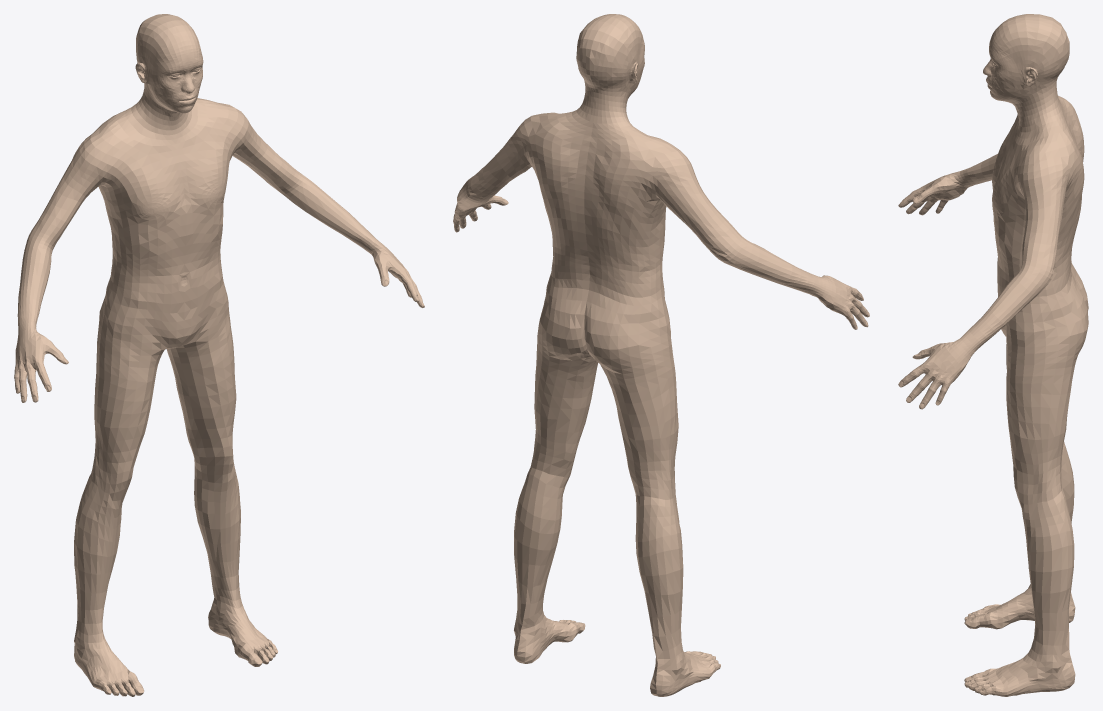
The model's file is male-adult-fit-toned.glb.
The picture shows the model from 3 angles, left to right: view 1: azimuth 30°, elevation 25°; view 2: azimuth 150°, elevation 25°; view 3: azimuth 270°, elevation 25°; orthographic projection.
Visible parts, largest first — view 1: world; view 2: world; view 3: world.
Boxes of the visible parts, x1=… form: world: x1=14, y1=14, x2=424, y2=696; world: x1=453, y1=14, x2=869, y2=696; world: x1=898, y1=14, x2=1088, y2=696.
Bounding box in the file's own units: 1.28 × 1.95 × 0.525.
